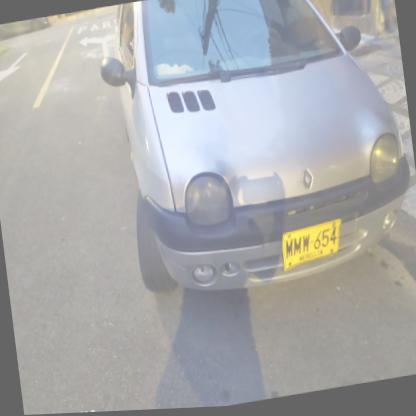placa: (273, 215, 347, 279)
